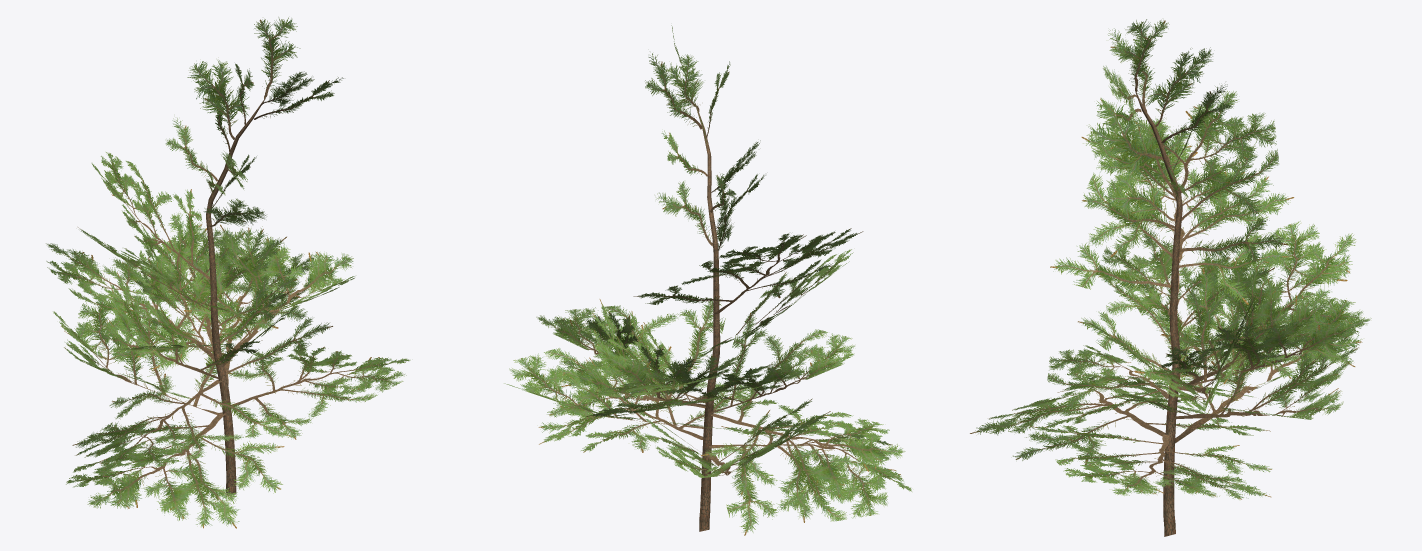
3 views of the same model, side by side, from view 1: azimuth 30°, elevation 25°; view 2: azimuth 150°, elevation 25°; view 3: azimuth 270°, elevation 25° (orthographic). The views are drawn at different scales.
Visible parts, largest first — view 1: Pine_sapling_2_LOD2_Bark_Mat_0; view 2: Pine_sapling_2_LOD2_Bark_Mat_0; view 3: Pine_sapling_2_LOD2_Bark_Mat_0.
Part boxes in pixels (x1,y1,x2,y2): Pine_sapling_2_LOD2_Bark_Mat_0: (46, 17, 410, 528); Pine_sapling_2_LOD2_Bark_Mat_0: (504, 25, 911, 535); Pine_sapling_2_LOD2_Bark_Mat_0: (970, 19, 1371, 536).
Bounding box in the file's own units: 1.25 × 1.55 × 1.16.
